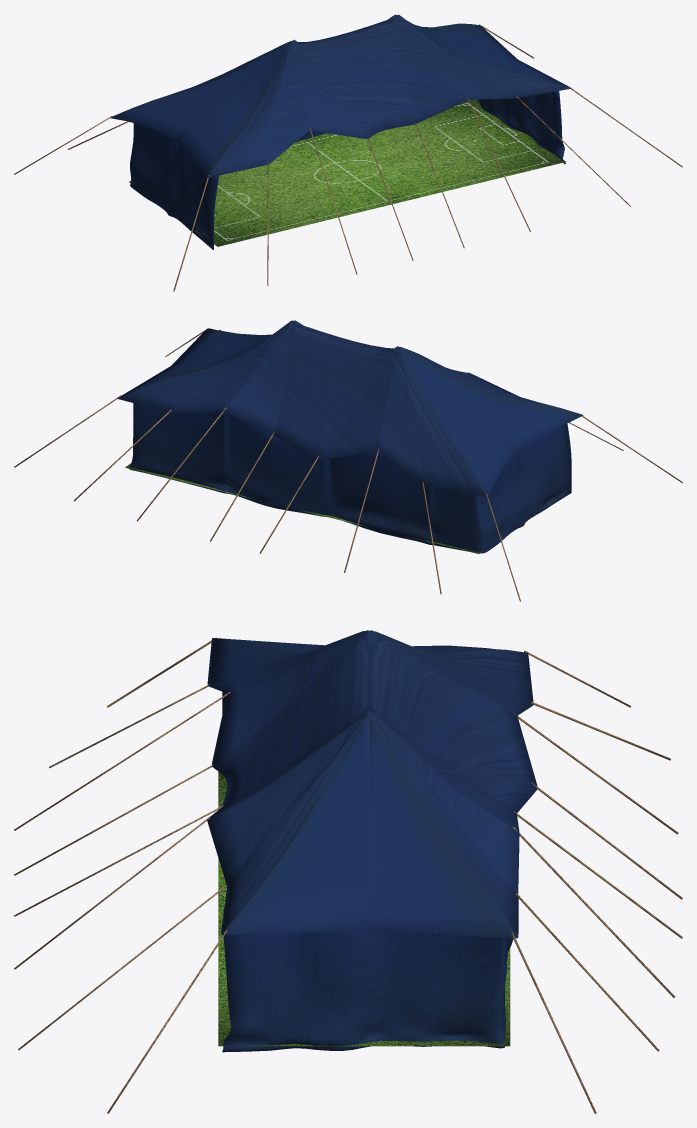
Rendered from carpa_futbolito.obj.
3 renders of one model, top to bottom at view 1: azimuth 30°, elevation 25°; view 2: azimuth 150°, elevation 25°; view 3: azimuth 270°, elevation 25°, orthographic. The views are drawn at different scales.
Parts seen in each view (by area): view 1: Box01, Plane01, Object01; view 2: Box01, Object01, Plane01; view 3: Box01, Object01, Plane01.
Part boxes in pixels (x1,y1,x2,y2): Box01: [110, 14, 571, 177]; Plane01: [129, 99, 565, 246]; Object01: [130, 89, 565, 249]; Box01: [117, 320, 583, 496]; Object01: [129, 329, 571, 553]; Plane01: [125, 463, 553, 553]; Box01: [207, 630, 537, 938]; Object01: [222, 692, 513, 1052]; Plane01: [218, 771, 510, 1046].
Bounding box in the file's own units: 383 × 106 × 266.
Materials: 3 (3 with a texture image).
